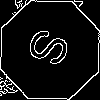S: (25, 25, 81, 74)
